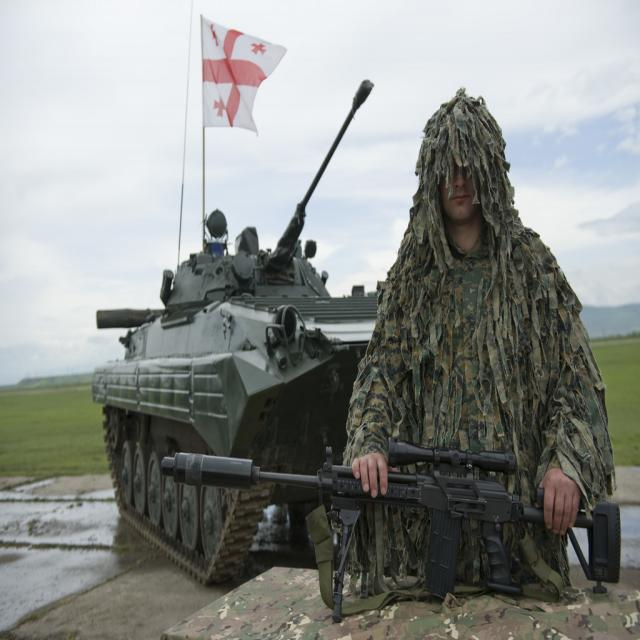tank: (92, 1, 390, 584), (91, 0, 383, 585)
